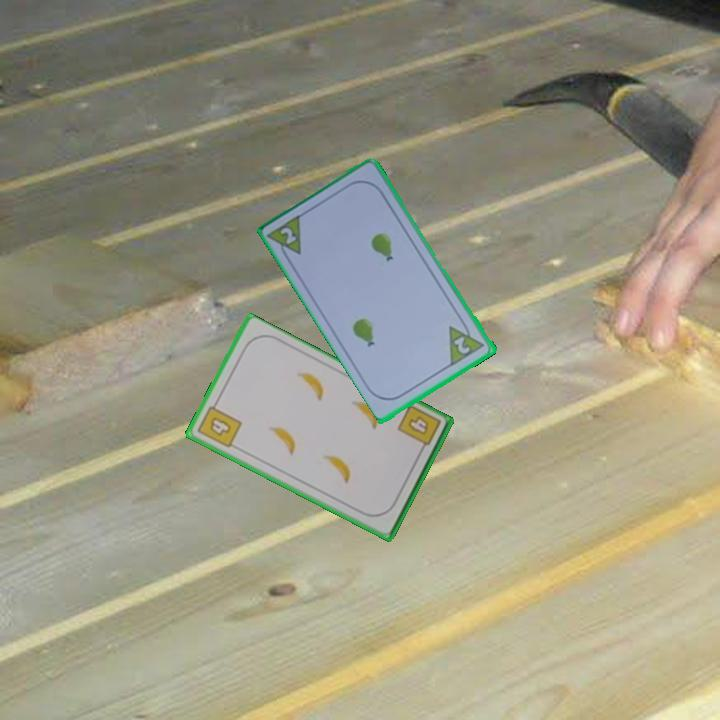2p: (445, 316, 488, 369), (265, 210, 305, 265)
4b: (194, 397, 245, 451), (394, 402, 444, 456)
